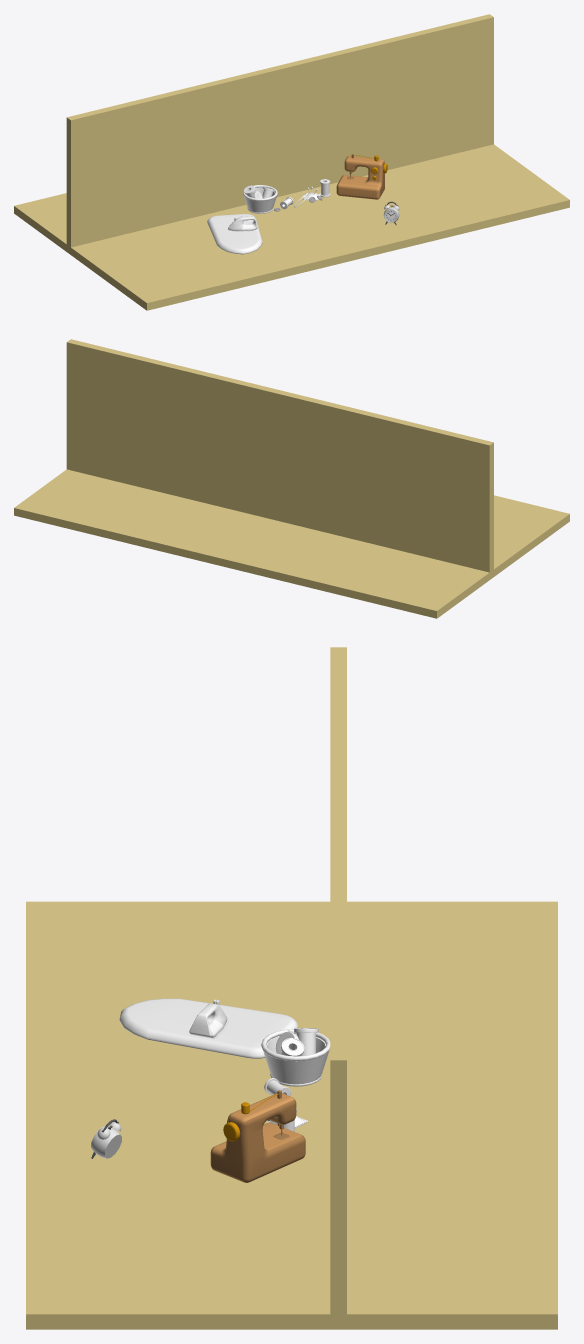
Rendered from BackGroundModels.gltf.
3 renders of one model, top to bottom at view 1: azimuth 30°, elevation 25°; view 2: azimuth 150°, elevation 25°; view 3: azimuth 270°, elevation 25°, orthographic. The views are drawn at different scales.
Parts seen in each view (by area): view 1: BackGroundModels, SewingMachine; view 2: BackGroundModels; view 3: BackGroundModels, SewingMachine, clock.
Boxes of the visible parts, x1,y1,x2,y2 form: BackGroundModels: (14,14,569,310); SewingMachine: (336,154,387,199); BackGroundModels: (14,339,569,618); BackGroundModels: (26,647,557,1329); SewingMachine: (210,1090,305,1182); clock: (91,1119,121,1158).
Bounding box in the file's own units: 109 × 33.26 × 59.5.
Materials: 11 (3 with a texture image).
